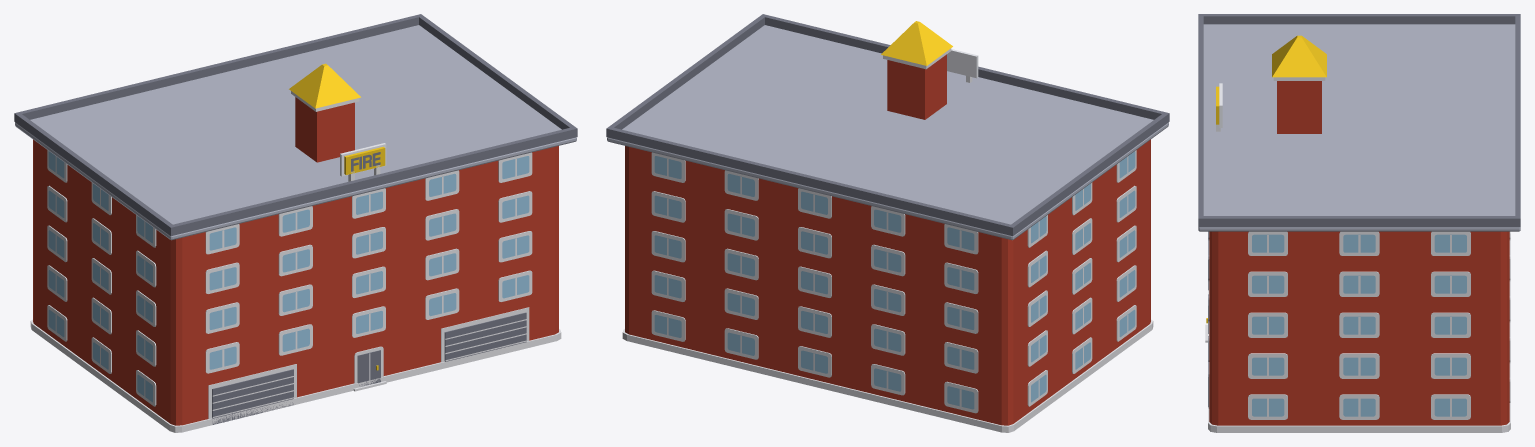
The model's file is fire-station-3x2-5f.glb.
The picture shows the model from 3 angles, left to right: view 1: azimuth 30°, elevation 25°; view 2: azimuth 150°, elevation 25°; view 3: azimuth 270°, elevation 25°; orthographic projection. The views are drawn at different scales.
Visible parts, largest first — view 1: fire-station-3x2-5f; view 2: fire-station-3x2-5f; view 3: fire-station-3x2-5f.
Boxes of the visible parts, x1,y1,x2,y2 form: fire-station-3x2-5f: [14, 14, 577, 432]; fire-station-3x2-5f: [606, 14, 1169, 432]; fire-station-3x2-5f: [1198, 14, 1520, 432].
Bounding box in the file's own units: 3 × 2.04 × 2.
Materials: 1 (1 with a texture image).
